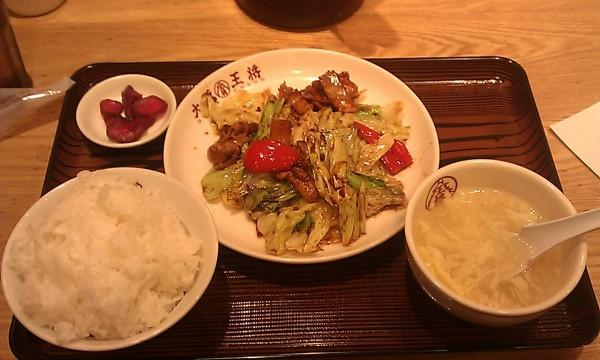plate: (0, 168, 217, 350)
rice: (8, 172, 205, 342)
